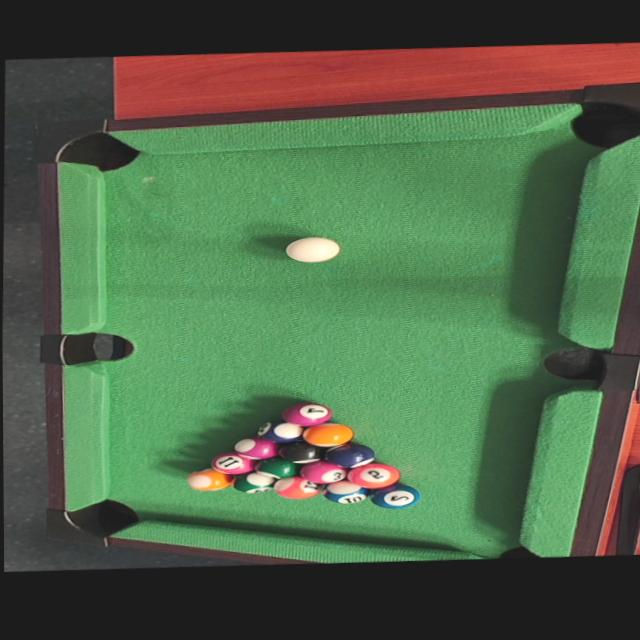cue ball: (284, 233, 340, 263)
other: (344, 459, 399, 488), (302, 418, 356, 447), (321, 439, 375, 468), (279, 397, 331, 427), (367, 481, 421, 509), (321, 476, 374, 504), (271, 471, 322, 500), (208, 447, 256, 476), (254, 416, 307, 442), (297, 458, 350, 484), (229, 433, 280, 460), (230, 466, 280, 493), (278, 437, 328, 464), (184, 464, 232, 491), (251, 452, 297, 478)
